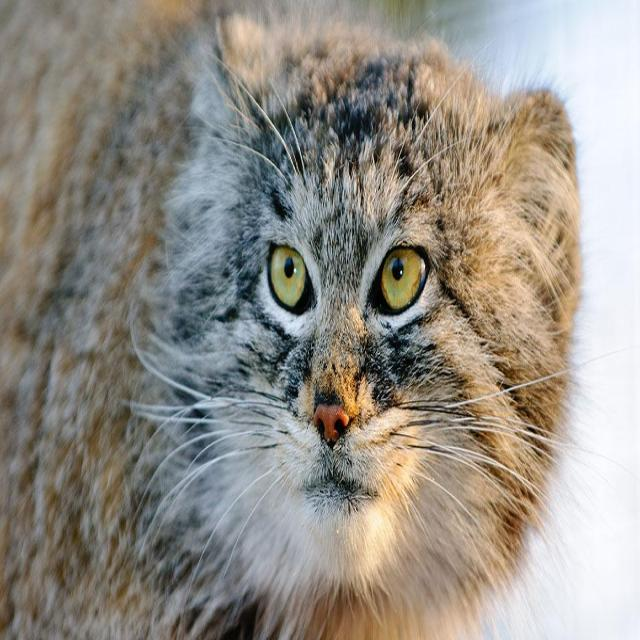Cat: (178, 34, 586, 580)
